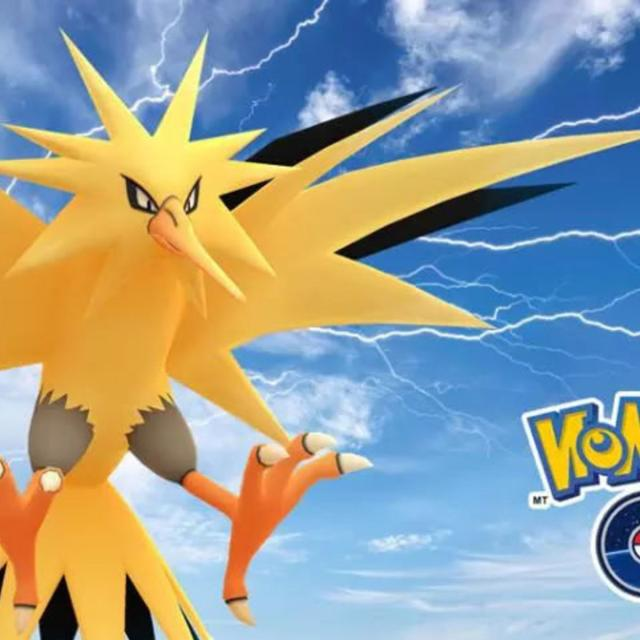Zapdos: (0, 76, 368, 549)
